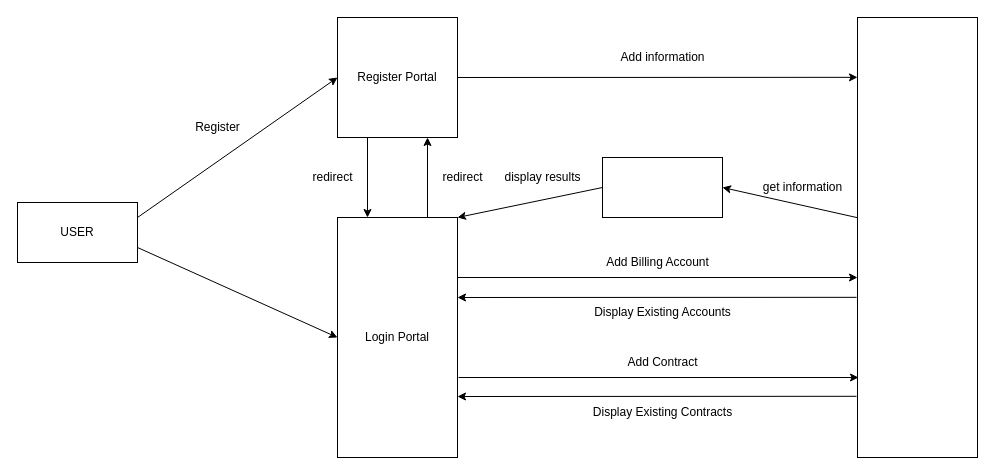
The diagram is 995 pixels wide and 475 high, and some of its shapes have lost their labels. The centre of each missing label's shape, as x and y in pixels:
Database: (x=917, y=237)
ONNX Runtime Inference: (x=662, y=187)
